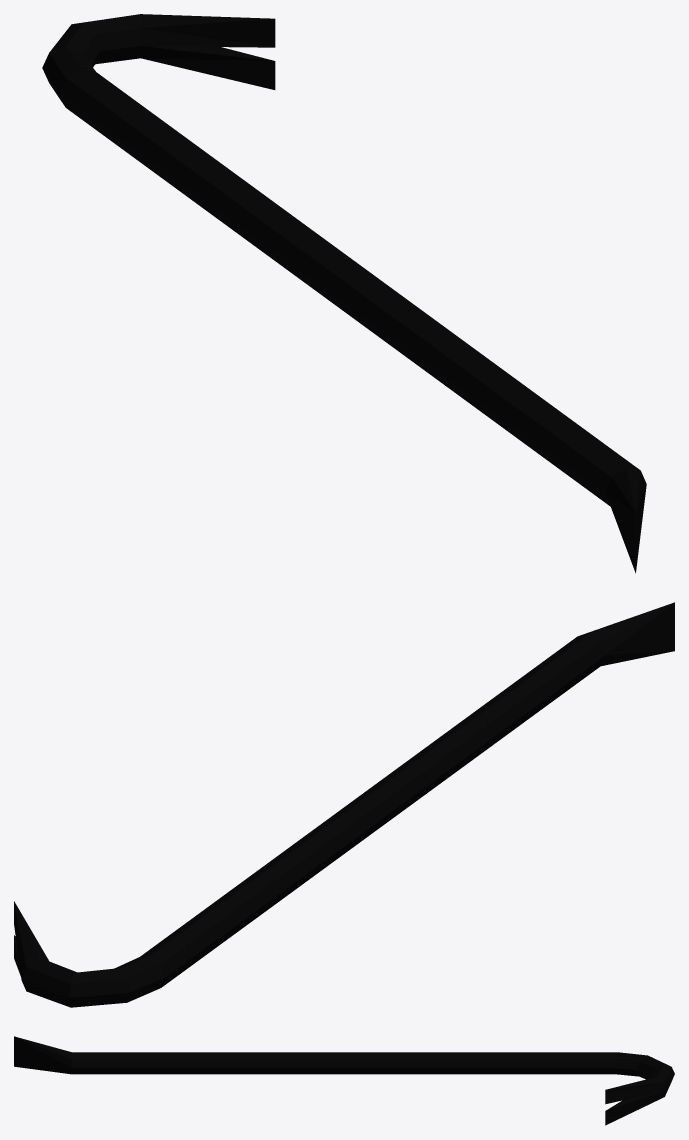
File: scene_7pP0kgK382.glb
3 views of the same model, one above another, from view 1: azimuth 30°, elevation 25°; view 2: azimuth 150°, elevation 25°; view 3: azimuth 270°, elevation 25° (orthographic). The views are drawn at different scales.
Parts seen in each view (by area): view 1: Crowbar; view 2: Crowbar; view 3: Crowbar.
Part boxes in pixels (<box>): Crowbar: <box>42,14,646,573</box>; Crowbar: <box>14,602,674,1007</box>; Crowbar: <box>14,1036,674,1125</box>.
Bounding box in the file's own units: 0.2833 × 0.0841 × 1.41.
Materials: 1 (1 with a texture image).
